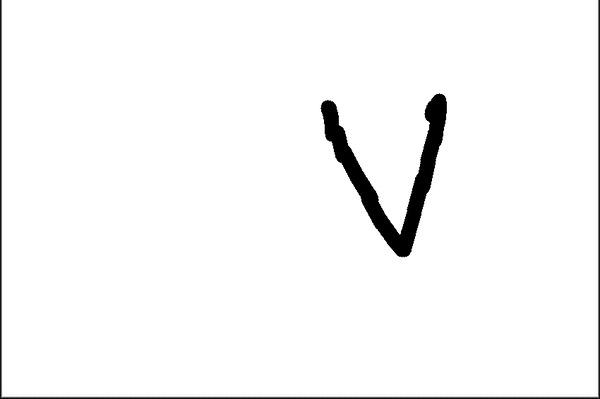V: (311, 77, 480, 265)
